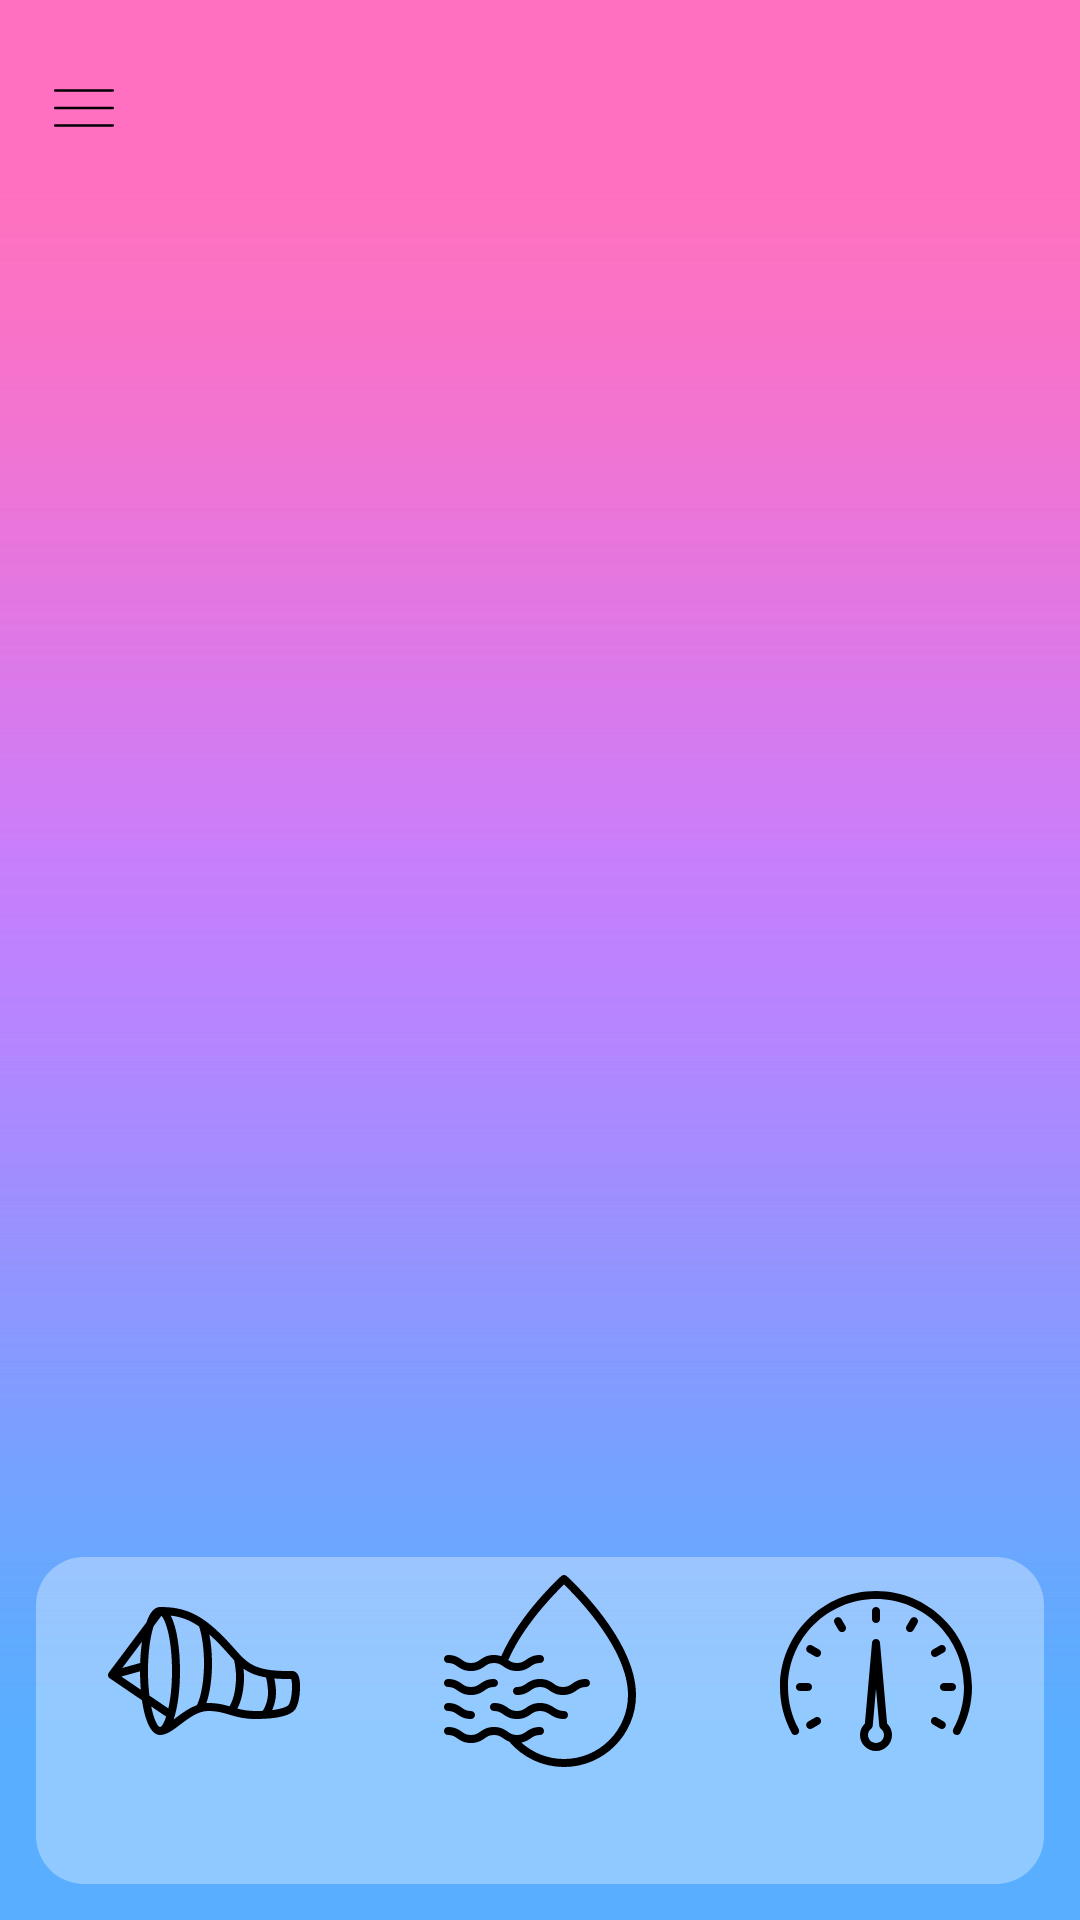

Locate icon controls on the screen. Image size 1080w x 1920h, boxes as (x1, y1, x2, y2).
barometer: (780, 1591, 972, 1751)
humidity: (444, 1575, 636, 1767)
menu: (54, 89, 114, 127)
wind: (108, 1607, 300, 1735)
